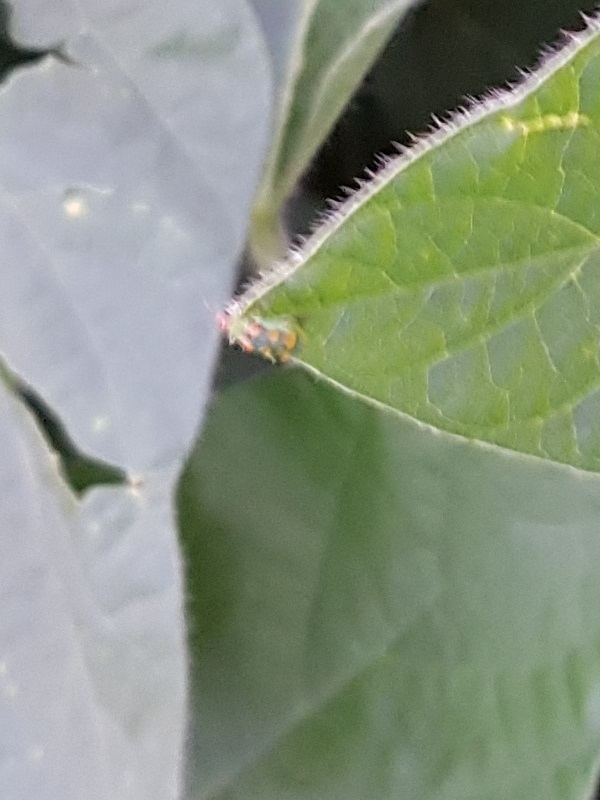Diabrotica_speciosa: (169, 263, 331, 402)
